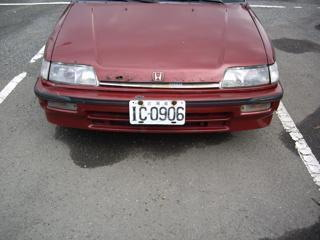plate: (128, 99, 187, 126)
